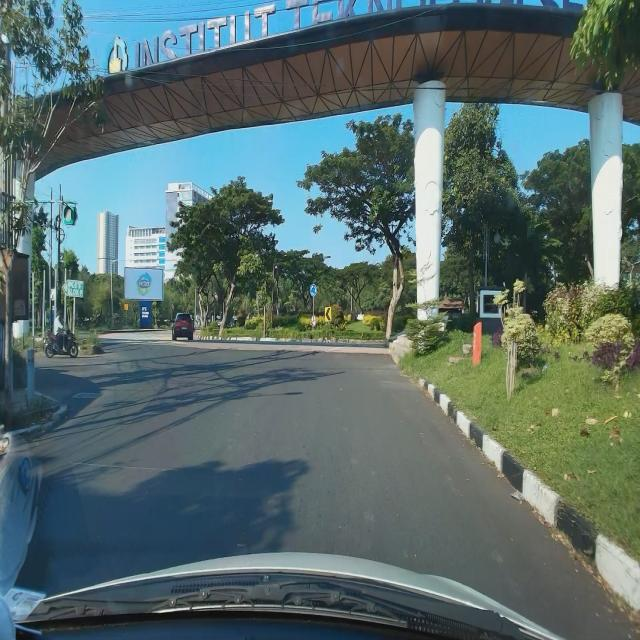car: (171, 312, 195, 342)
license-plate: (182, 326, 187, 330)
